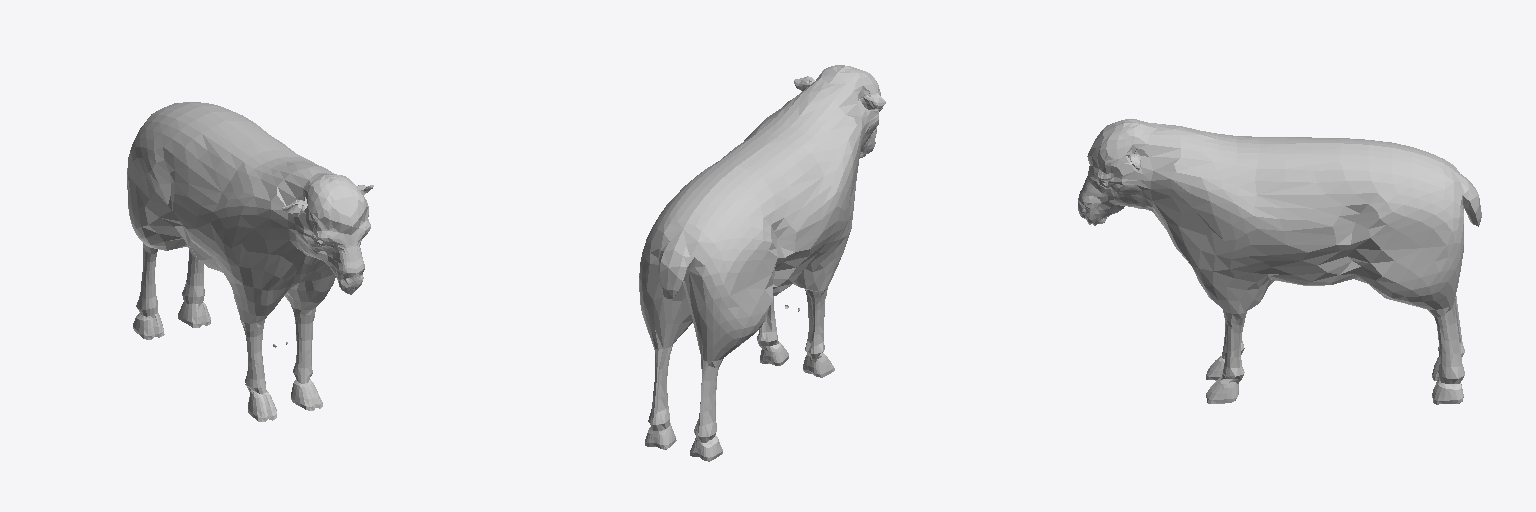
The model's file is sheep.obj.
3 renders of one model, left to right at view 1: azimuth 30°, elevation 25°; view 2: azimuth 150°, elevation 25°; view 3: azimuth 270°, elevation 25°, orthographic.
Visible parts, largest first — view 1: shp_body; view 2: shp_body; view 3: shp_body.
Part boxes in pixels (bbox=[...]): shp_body: bbox=[127, 102, 373, 421]; shp_body: bbox=[639, 65, 885, 461]; shp_body: bbox=[1078, 119, 1481, 404].
Size of the model in its own units: 1.44 by 3.2 by 4.41.